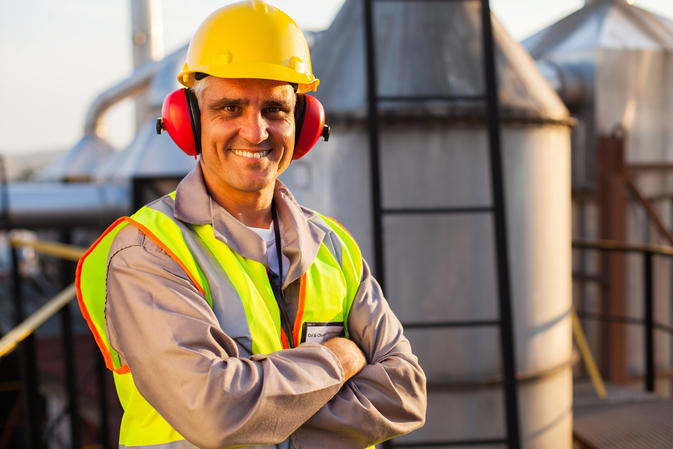Hard Hat: (177, 2, 324, 83)
High Viz: (85, 190, 352, 441)
